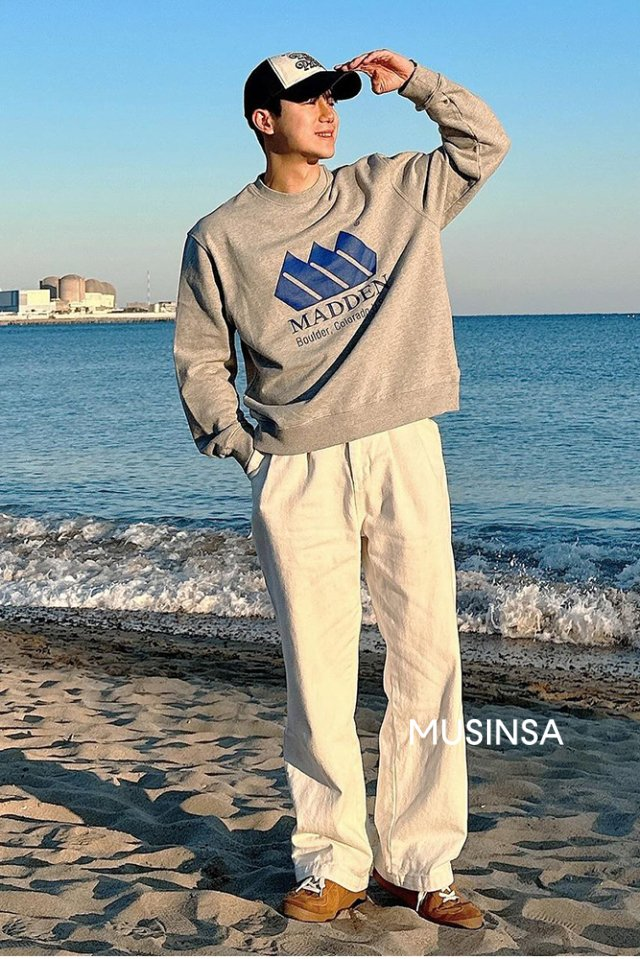Cap: (234, 49, 365, 107)
Pants: (244, 426, 469, 885)
Shoes: (278, 870, 486, 934)
Sweatshirt: (170, 164, 479, 430)
